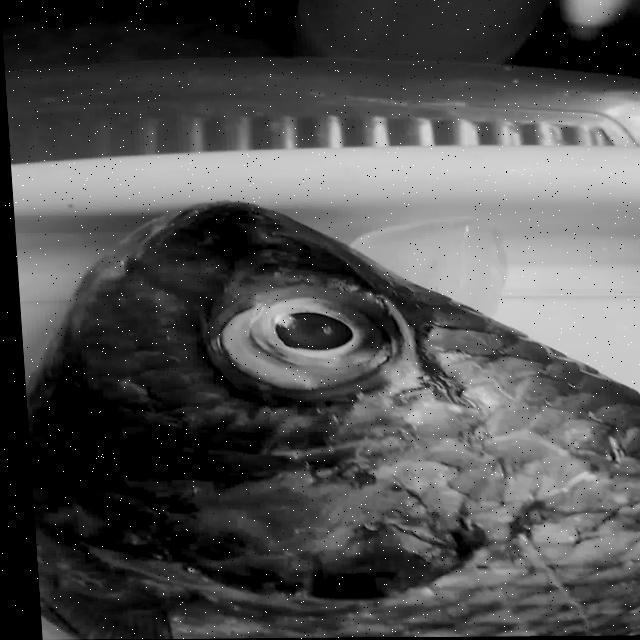Fresh: (176, 282, 484, 425)
